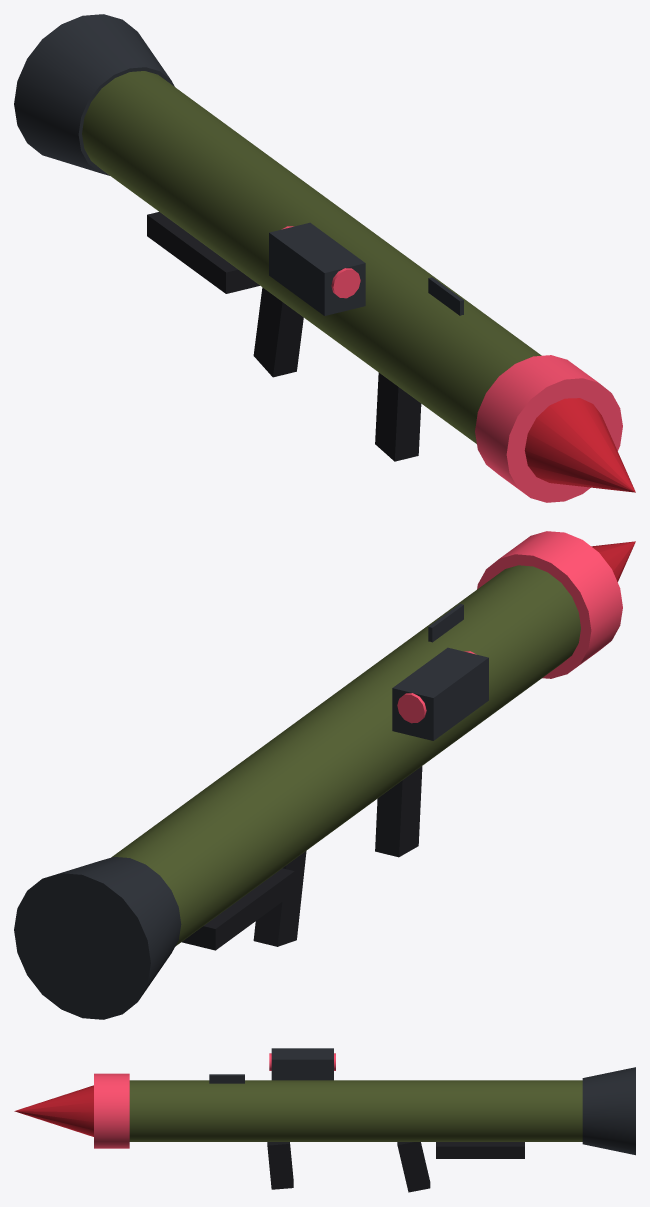
Rendered from RocketLauncher.obj.
3 views of the same model, one above another, from view 1: azimuth 30°, elevation 25°; view 2: azimuth 150°, elevation 25°; view 3: azimuth 270°, elevation 25° (orthographic). The views are drawn at different scales.
Visible parts, largest first — view 1: Tube, BackFlare, FrontRing, RocketWarhead, Grips, SightBox, ShoulderPad, SightLens, RocketFins; view 2: Tube, BackFlare, FrontRing, SightBox, Grips, ShoulderPad, RocketWarhead, SightLens, RocketFins; view 3: Tube, BackFlare, FrontRing, Grips, RocketWarhead, SightBox, ShoulderPad, RocketFins.
Part boxes in pixels (left/top/right/bottom): Tube: left=82, top=71, right=541, bottom=443; BackFlare: left=14, top=14, right=174, bottom=175; FrontRing: left=475, top=355, right=622, bottom=502; RocketWarhead: left=524, top=398, right=635, bottom=492; Grips: left=253, top=287, right=421, bottom=461; SightBox: left=269, top=222, right=365, bottom=315; ShoulderPad: left=147, top=212, right=259, bottom=293; SightLens: left=281, top=226, right=360, bottom=298; RocketFins: left=428, top=277, right=463, bottom=315; Tube: left=111, top=565, right=580, bottom=946; BackFlare: left=14, top=857, right=181, bottom=1019; FrontRing: left=477, top=531, right=622, bottom=678; SightBox: left=392, top=647, right=488, bottom=740; Grips: left=253, top=766, right=422, bottom=946; ShoulderPad: left=181, top=868, right=294, bottom=950; RocketWarhead: left=591, top=541, right=635, bottom=581; SightLens: left=397, top=651, right=476, bottom=723; RocketFins: left=428, top=603, right=463, bottom=642; Tube: left=129, top=1080, right=582, bottom=1141; BackFlare: left=582, top=1067, right=635, bottom=1155; FrontRing: left=94, top=1073, right=129, bottom=1148; Grips: left=267, top=1142, right=430, bottom=1192; RocketWarhead: left=14, top=1085, right=93, bottom=1136; SightBox: left=271, top=1048, right=333, bottom=1080; ShoulderPad: left=436, top=1142, right=524, bottom=1158; RocketFins: left=209, top=1074, right=244, bottom=1083.
Bounding box in the file's own units: 0.22 × 0.2939 × 1.4.
